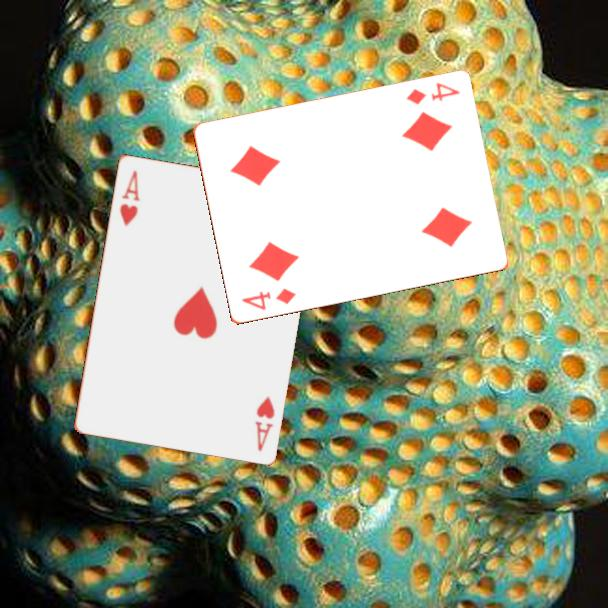d04: (402, 79, 463, 108), (238, 285, 298, 314)
h01: (116, 166, 142, 229), (251, 392, 277, 454)
